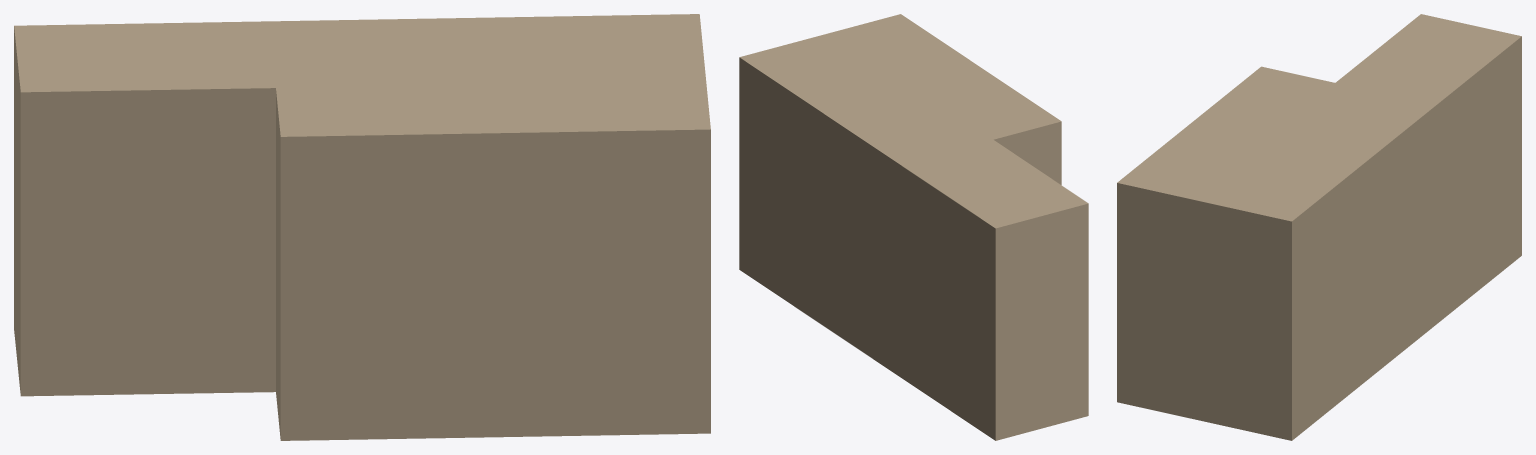
File: bld_101353758.dae
3 views of the same model, side by side, from view 1: azimuth 30°, elevation 25°; view 2: azimuth 150°, elevation 25°; view 3: azimuth 270°, elevation 25° (orthographic). The views are drawn at different scales.
Parts seen in each view (by area): view 1: bld_101353758; view 2: bld_101353758; view 3: bld_101353758.
Part boxes in pixels (x1,y1,x2,y2): bld_101353758: (14, 14, 710, 440); bld_101353758: (739, 14, 1088, 440); bld_101353758: (1117, 14, 1521, 440).
Size of the model in its own units: 16.23 by 13.38 by 8.
